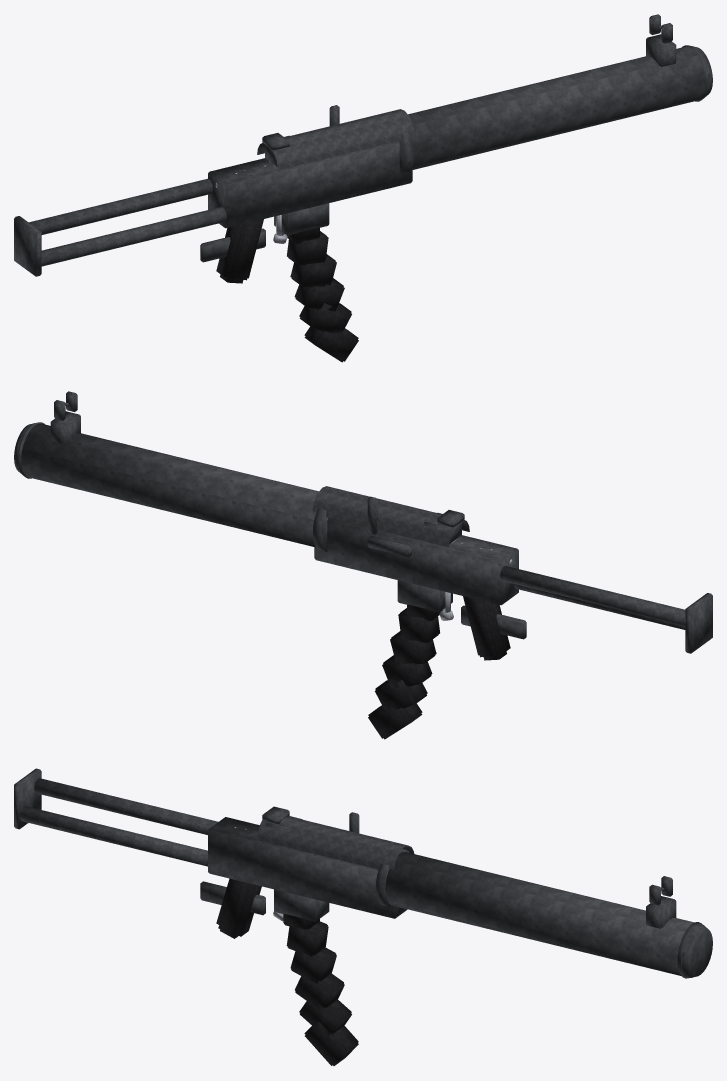
3 views of the same model, one above another, from view 1: azimuth 30°, elevation 25°; view 2: azimuth 150°, elevation 25°; view 3: azimuth 330°, elevation 25° (orthographic).
Visible parts, largest first — view 1: Inner_Part_8, Outer_Shell, Inner_Part_11, Inner_Part_1, Inner_Part_2, Inner_Part_12, Inner_Part_9, Inner_Part_10; view 2: Inner_Part_8, Outer_Shell, Inner_Part_1, Inner_Part_11, Inner_Part_2, Inner_Part_12, Inner_Part_9, Inner_Part_15, Inner_Part_10; view 3: Inner_Part_8, Outer_Shell, Inner_Part_11, Inner_Part_1, Inner_Part_2, Inner_Part_12, Inner_Part_9.
Boxes of the visible parts, left/top/right/bottom form: Inner_Part_8: left=399, top=45, right=712, bottom=174; Outer_Shell: left=200, top=141, right=412, bottom=262; Inner_Part_11: left=14, top=178, right=226, bottom=276; Inner_Part_1: left=284, top=227, right=358, bottom=362; Inner_Part_2: left=257, top=109, right=414, bottom=170; Inner_Part_12: left=216, top=219, right=263, bottom=283; Inner_Part_9: left=646, top=14, right=676, bottom=66; Inner_Part_10: left=262, top=133, right=303, bottom=166; Inner_Part_8: left=14, top=422, right=327, bottom=551; Outer_Shell: left=314, top=518, right=526, bottom=639; Inner_Part_1: left=368, top=604, right=442, bottom=739; Inner_Part_11: left=500, top=566, right=712, bottom=653; Inner_Part_2: left=312, top=486, right=469, bottom=547; Inner_Part_12: left=463, top=596, right=510, bottom=660; Inner_Part_9: left=50, top=391, right=80, bottom=443; Inner_Part_15: left=367, top=496, right=411, bottom=557; Inner_Part_10: left=423, top=510, right=464, bottom=543; Inner_Part_8: left=375, top=849, right=712, bottom=978; Outer_Shell: left=200, top=817, right=407, bottom=921; Inner_Part_11: left=14, top=768, right=218, bottom=866; Inner_Part_1: left=283, top=913, right=358, bottom=1065; Inner_Part_2: left=257, top=816, right=414, bottom=870; Inner_Part_12: left=216, top=878, right=261, bottom=938; Inner_Part_9: left=646, top=876, right=676, bottom=928.
Bounding box in the file's own units: 0.79 × 0.2897 × 0.0605.
5 materials, 5 textured.
